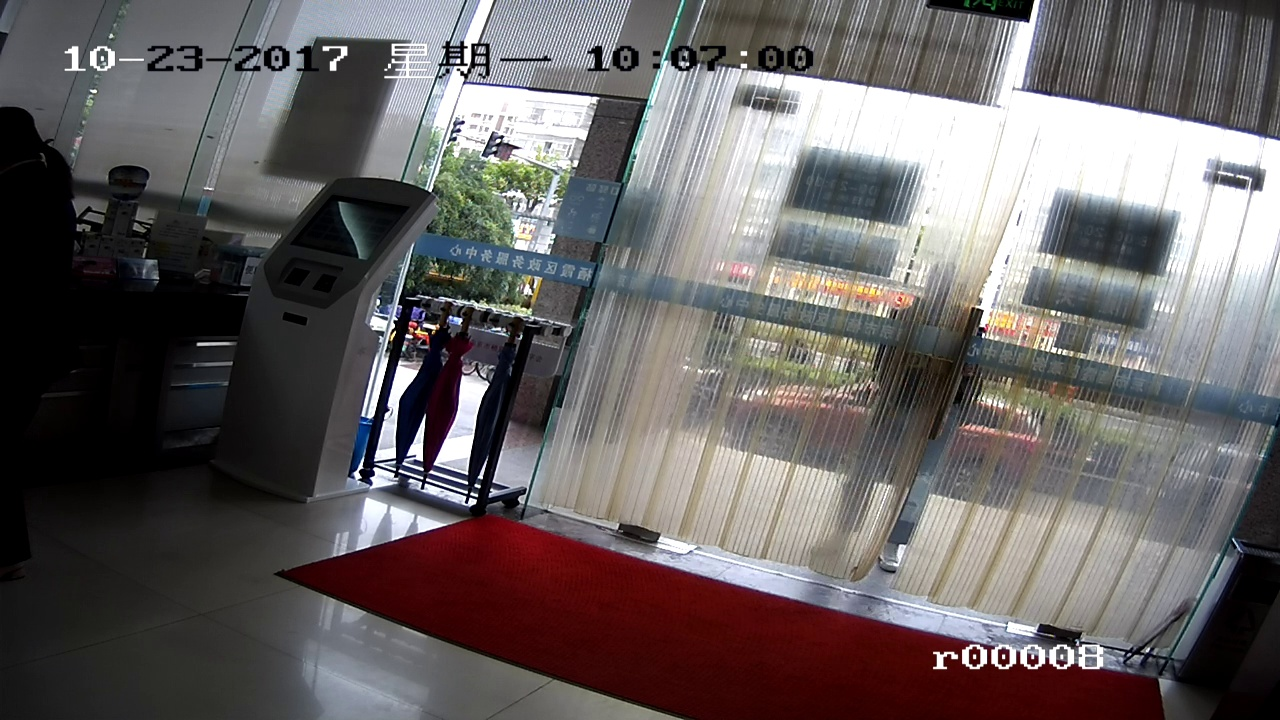billboard: (1054, 190, 1180, 287), (791, 145, 911, 225)
monitor: (301, 195, 389, 266)
person: (867, 254, 969, 590), (2, 115, 74, 573)
